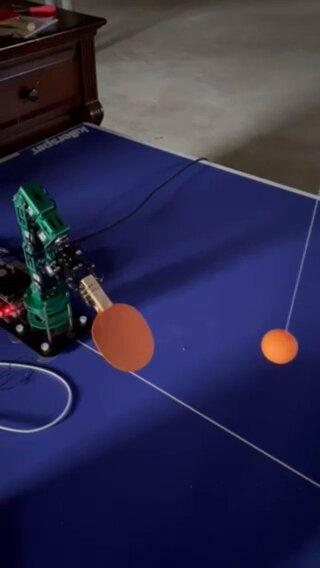oball: (260, 327, 299, 363)
